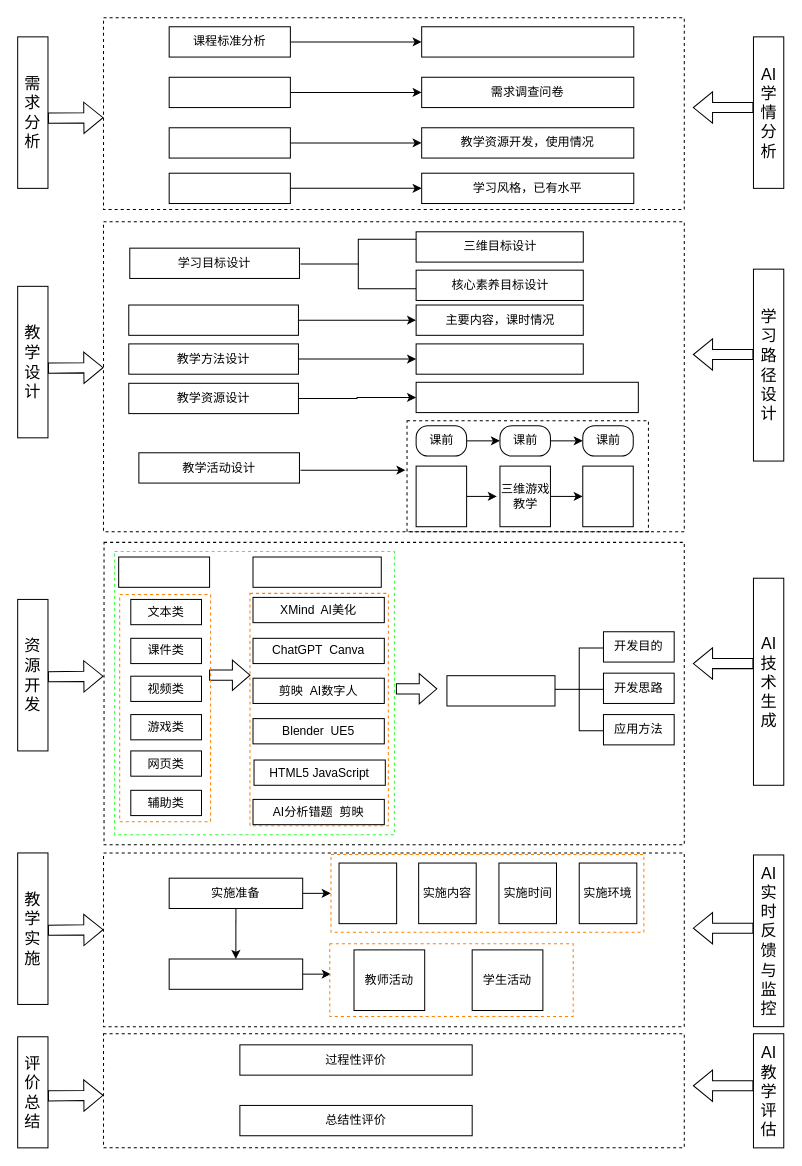
Image size: 802x1166. Some labels were removed from this diagram. Here are the shapes that lost their labels. From the top down, the centre of each, then its label:
At pixel 527 41: "针对课程标准分析设计资源".
At pixel 229 92: "学习需求分析".
At pixel 229 142: "教师访谈分析".
At pixel 229 188: "学习者分析".
At pixel 213 319: "教学内容设计".
At pixel 499 358: "不同教学内容选择不同方法".
At pixel 526 397: "教学资源的大致设计方案及所需工具".
At pixel 441 496: "按风格分发资源".
At pixel 607 496: "绘本创作实施".
At pixel 164 571: "资源开发类型".
At pixel 316 571: "资源开发工具".
At pixel 500 690: "描述资源开发思路".
At pixel 367 893: "实施对象".
At pixel 235 973: "实施过程".
